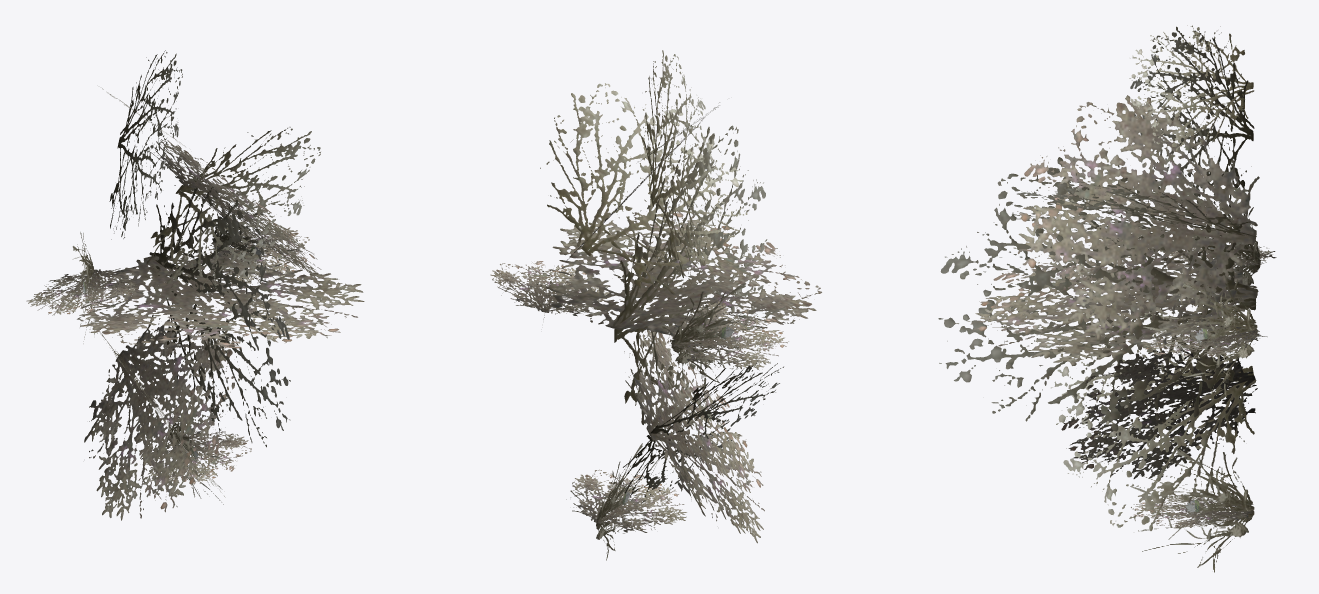
File: tdr_h_bush.obj
The picture shows the model from 3 angles, left to right: view 1: azimuth 30°, elevation 25°; view 2: azimuth 150°, elevation 25°; view 3: azimuth 270°, elevation 25°; orthographic projection. The views are drawn at different scales.
Parts seen in each view (by area): view 1: tdr_h_bush.001; view 2: tdr_h_bush.001; view 3: tdr_h_bush.001.
Boxes of the visible parts, <box> form: tdr_h_bush.001: <box>26,50,364,520</box>; tdr_h_bush.001: <box>490,50,821,560</box>; tdr_h_bush.001: <box>938,25,1276,572</box>.
Bounding box in the file's own units: 397 × 584 × 381.
Materials: 1 (1 with a texture image).
